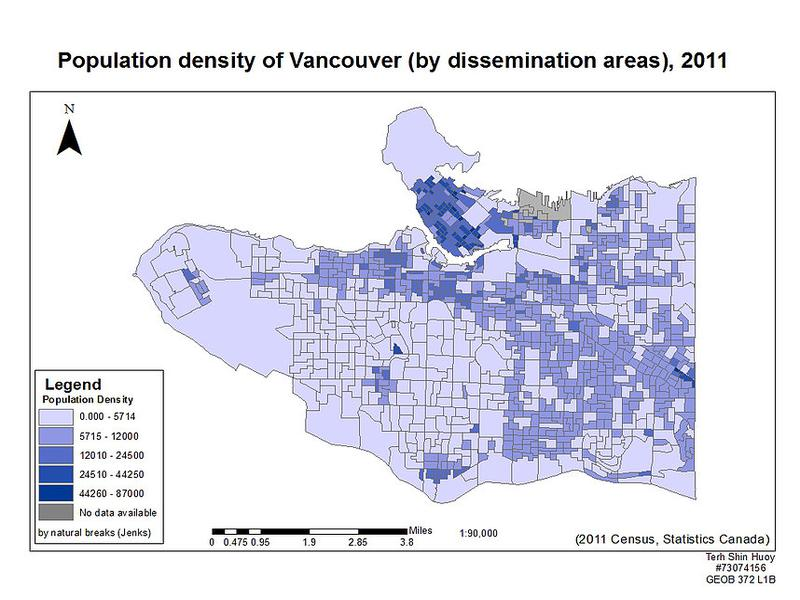legend: (32, 367, 166, 547)
